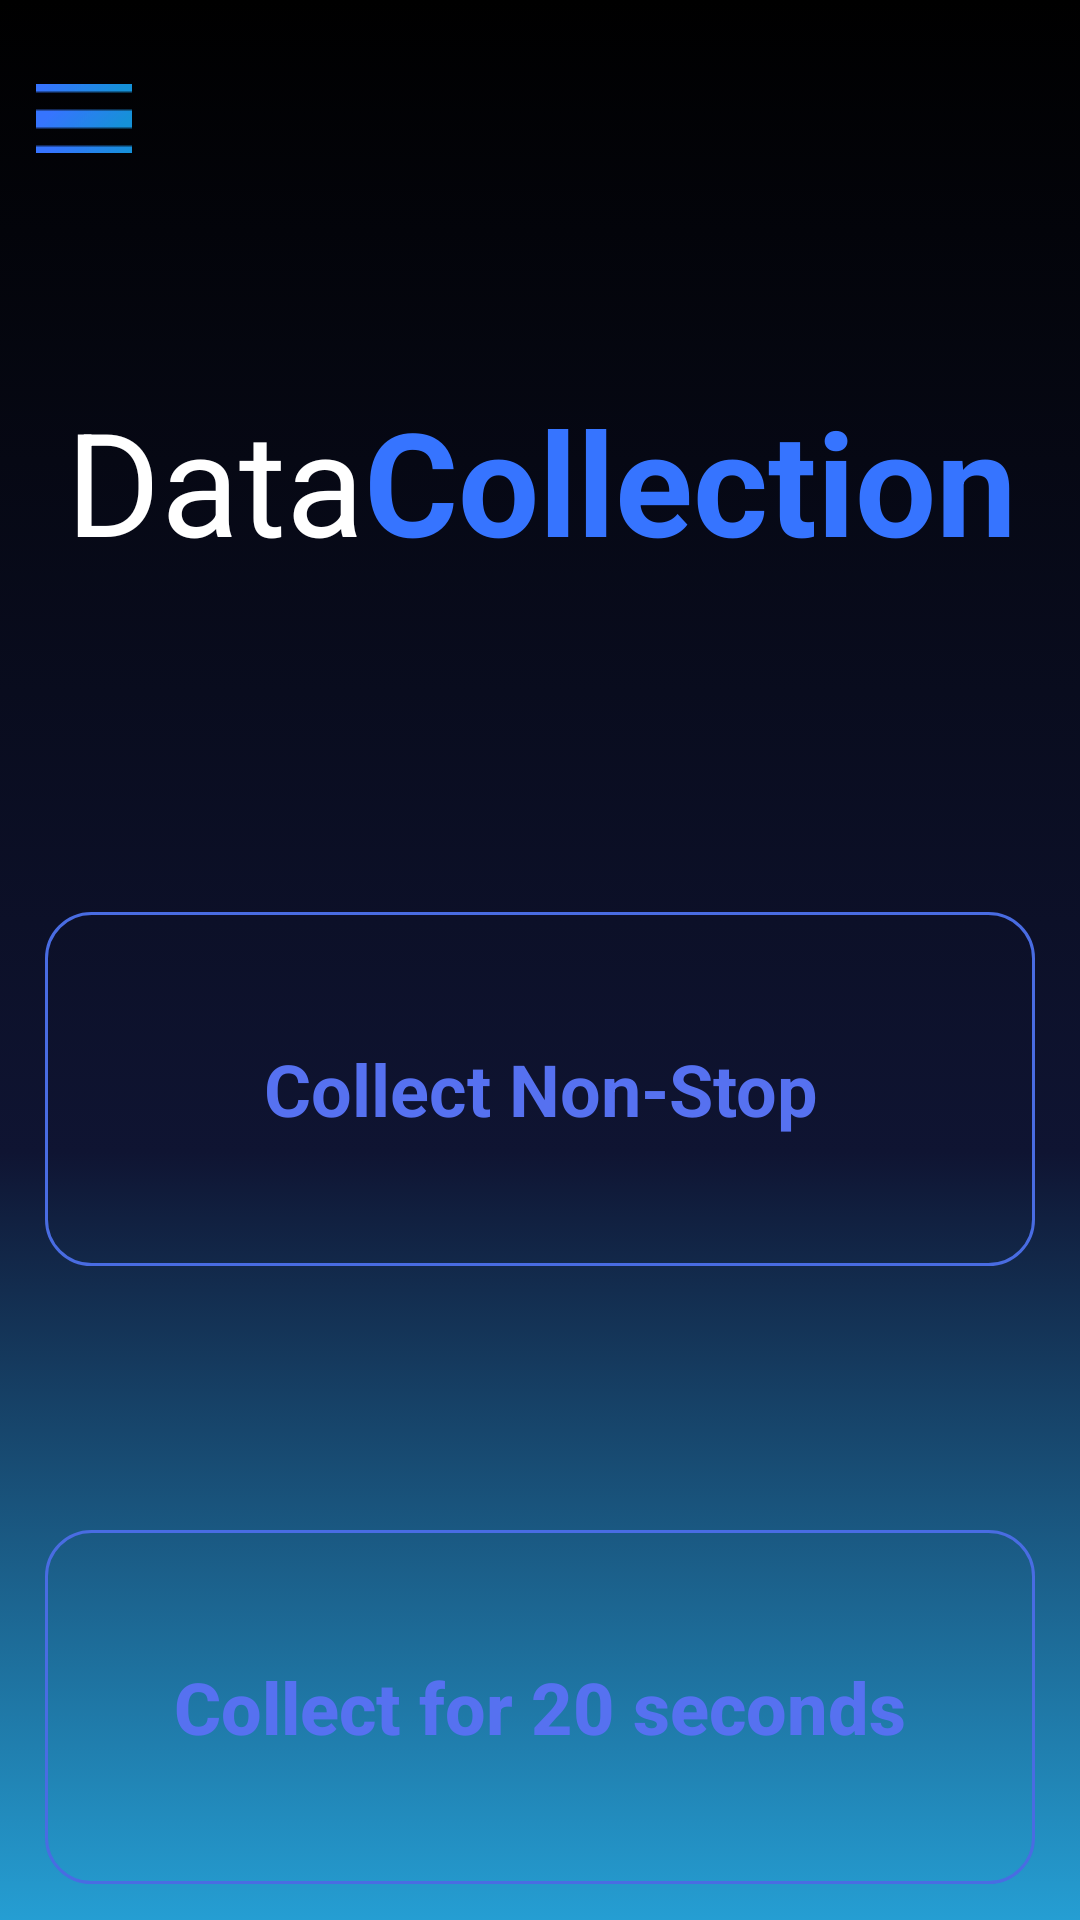

Icon bounding boxes for this 1080px x 1920px phone screenshot, format (x1, y1, x2, y2):
menu: (36, 84, 132, 153)
